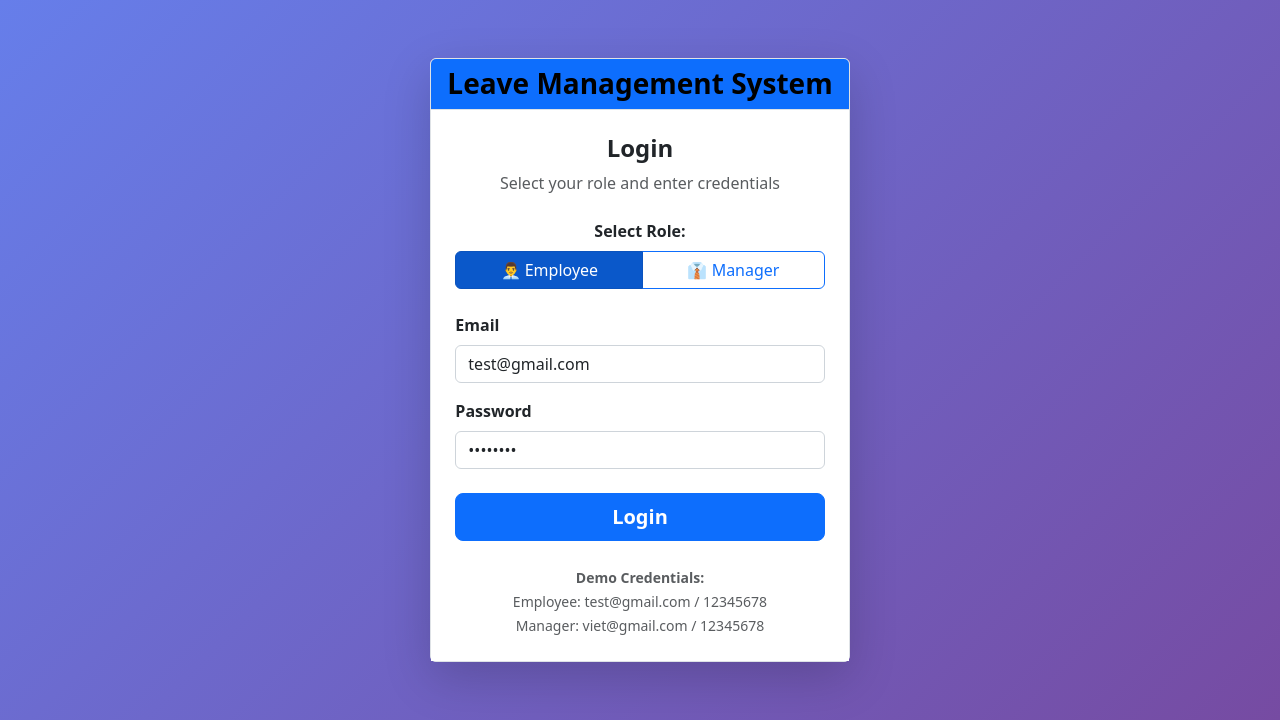
Scenario: LoginPage Component › shows error message on login failure
Click the button "Login" at (640, 517), box x1=455 y1=493 x2=825 y2=541
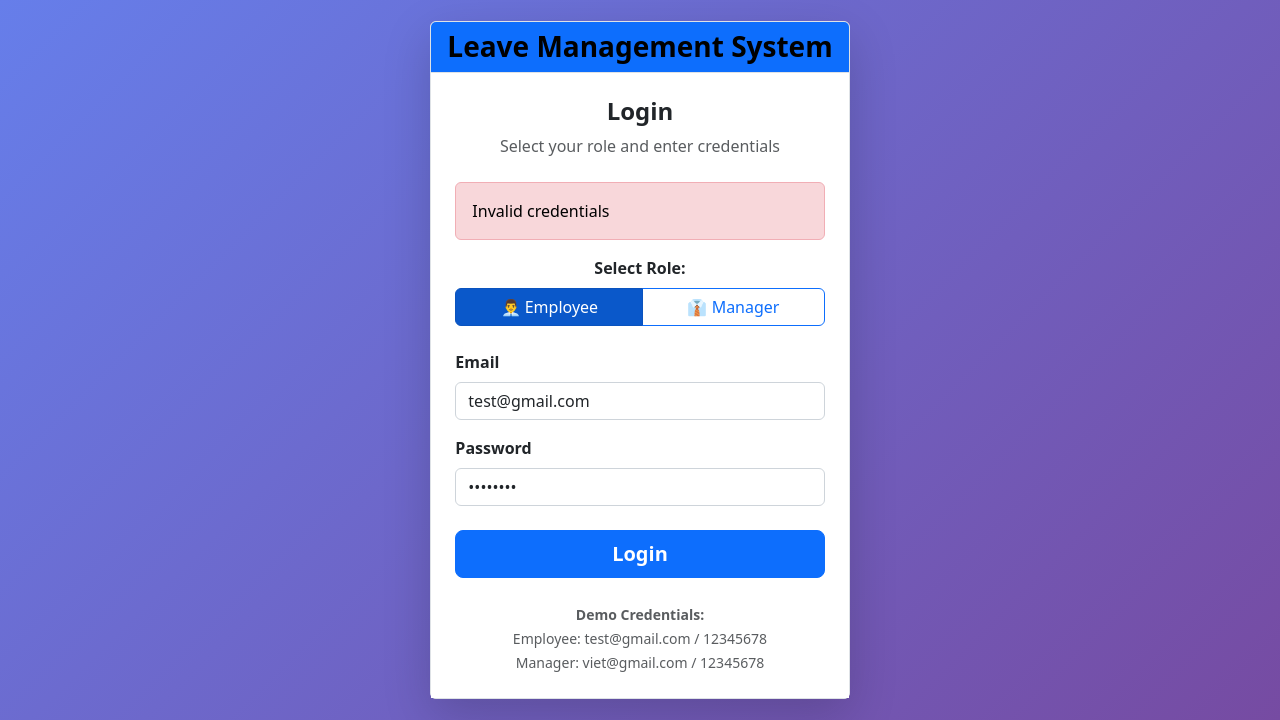
Expected: the text "Invalid credentials" is shown, x1=455 y1=182 x2=825 y2=240
